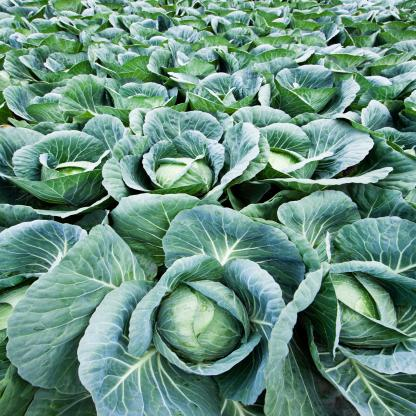---: (42, 198, 319, 416), (109, 105, 247, 216)
